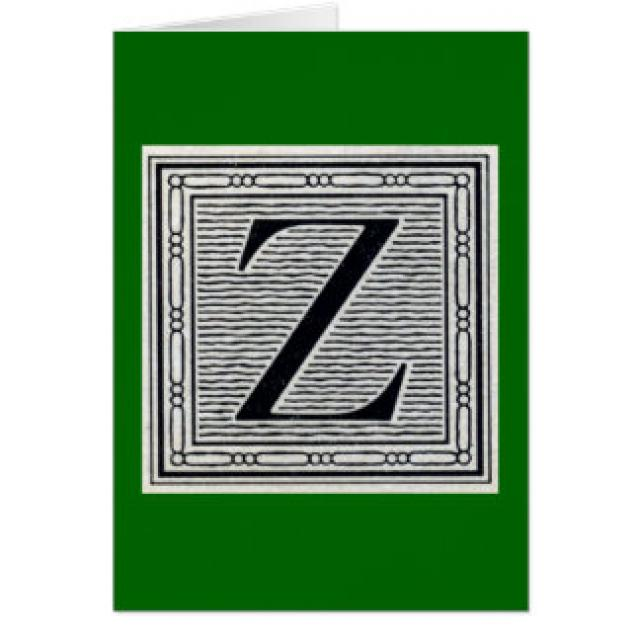Z: (220, 205, 427, 435)
